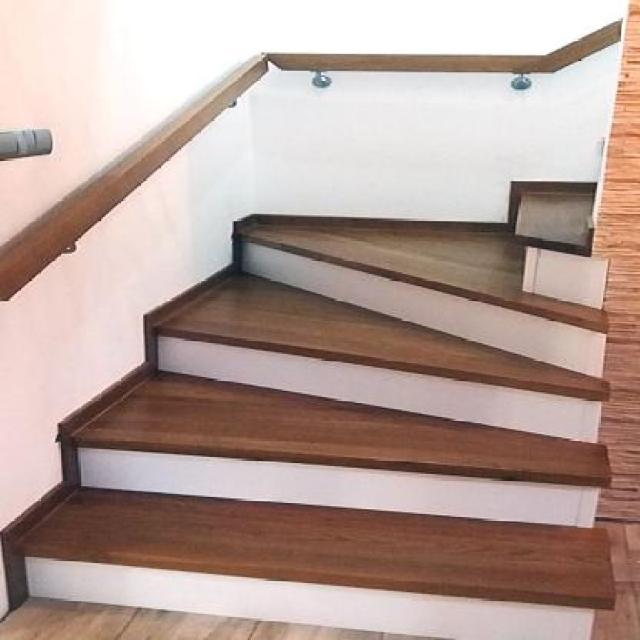stair: (19, 93, 638, 639)
